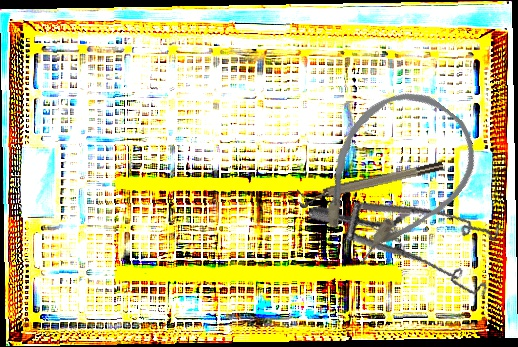Cannula: (289, 70, 496, 285)
Fixation Ring: (296, 158, 446, 210)
Speculum: (307, 169, 515, 329)
